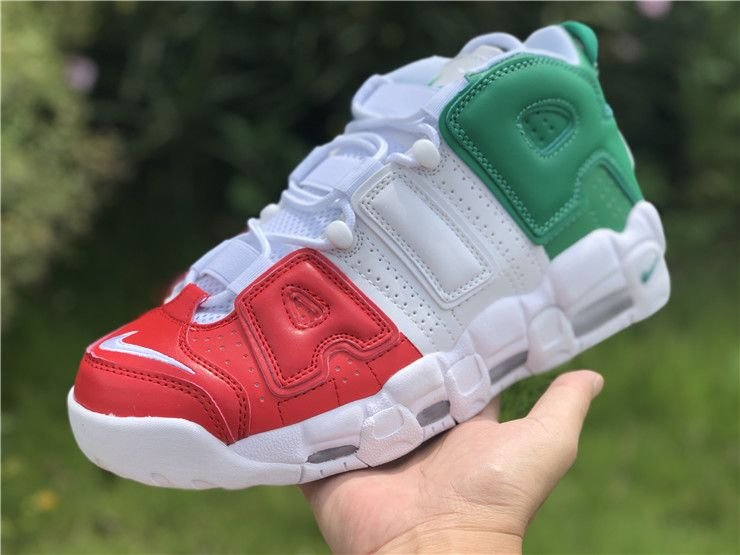Nike Air Uptempo '96 Italy: (49, 10, 681, 496)
